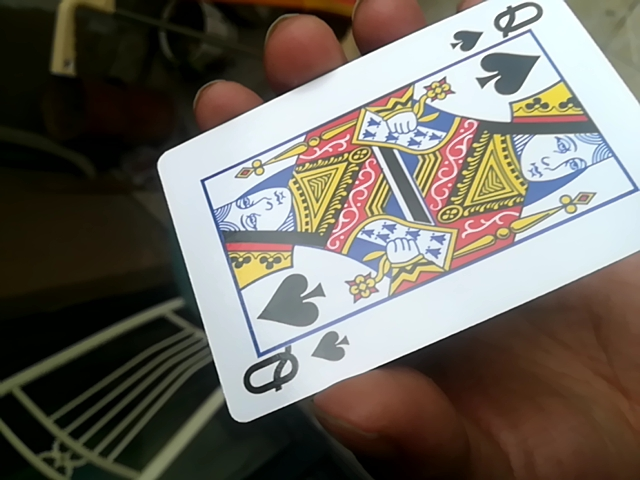ht q: (157, 0, 637, 434)
